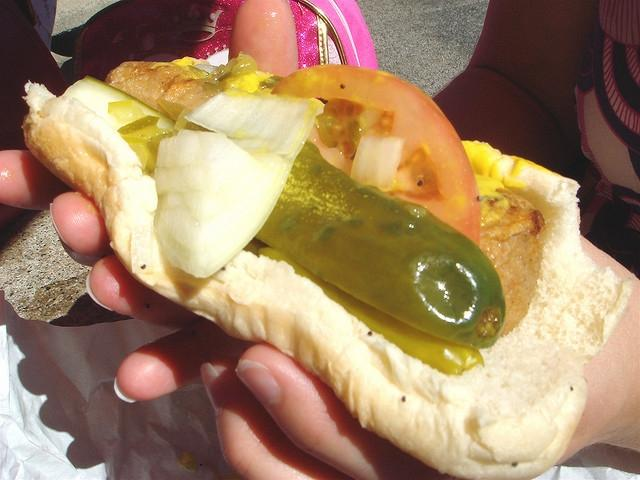onion: (152, 92, 312, 278), (349, 135, 404, 192), (193, 64, 219, 73)
tomato: (272, 64, 482, 248)
